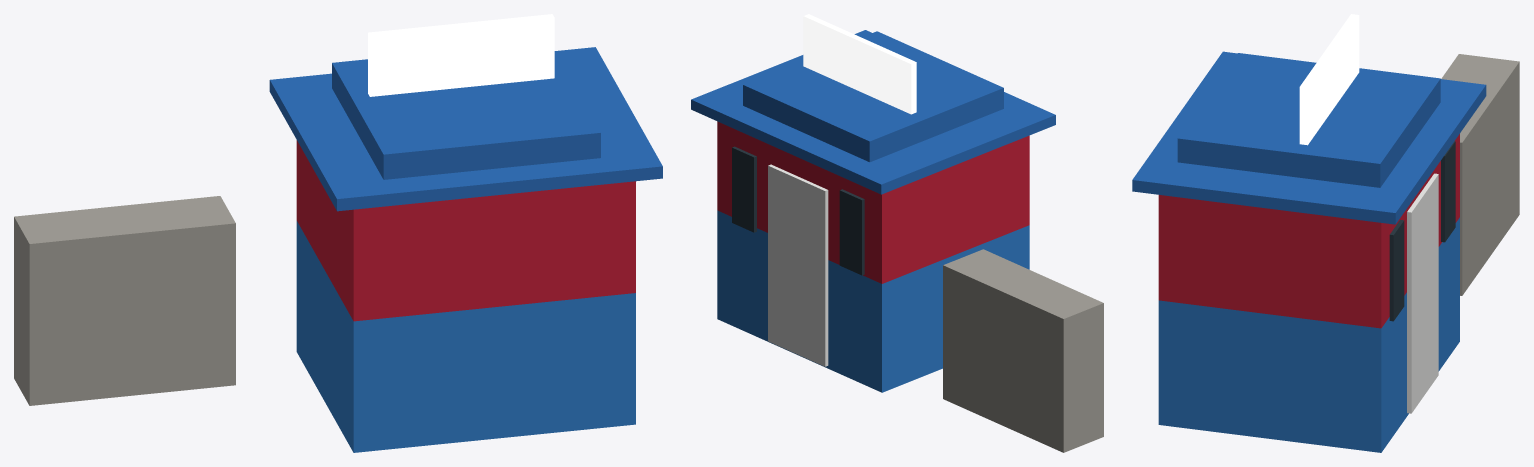
File: noord_kiosk.glb
3 renders of one model, left to right at view 1: azimuth 30°, elevation 25°; view 2: azimuth 150°, elevation 25°; view 3: azimuth 270°, elevation 25°, orthographic. The views are drawn at different scales.
Visible parts, largest first — view 1: noord_kiosk_lod0; view 2: noord_kiosk_lod0; view 3: noord_kiosk_lod0.
Part boxes in pixels (x1=…): noord_kiosk_lod0: x1=14, y1=14, x2=662, y2=452; noord_kiosk_lod0: x1=691, y1=14, x2=1103, y2=452; noord_kiosk_lod0: x1=1132, y1=14, x2=1519, y2=452.
Size of what is drawn, in the model's own units: 5.51 by 3.5 by 3.67.
